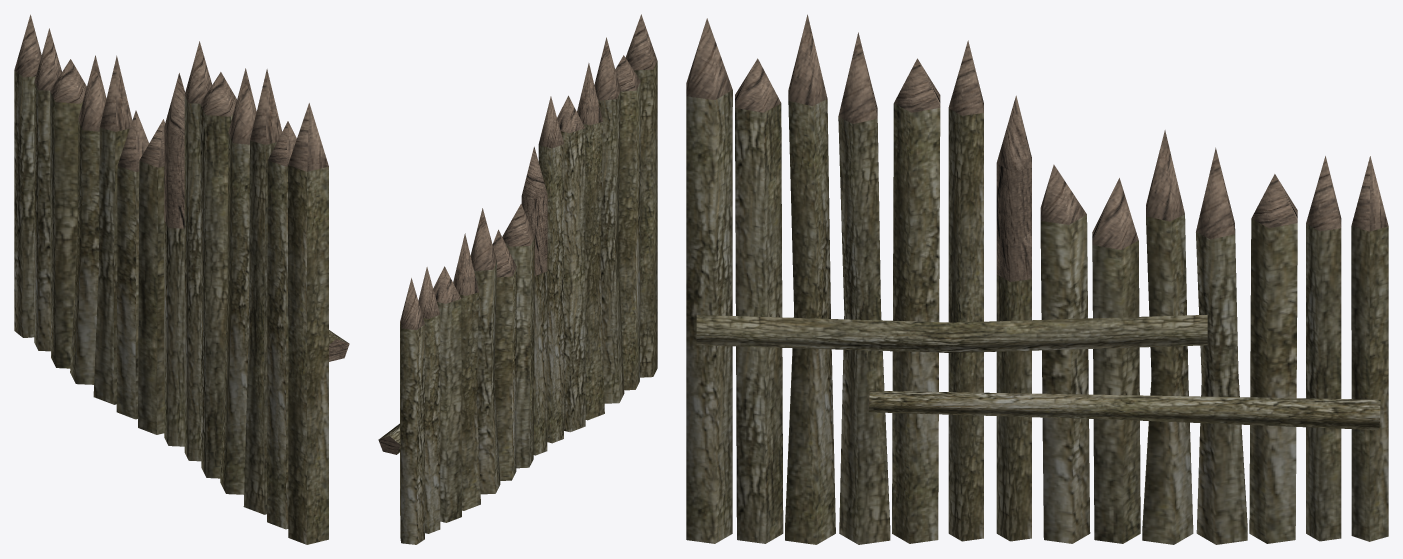
Rendered from Toge.FBX.
The picture shows the model from 3 angles, left to right: view 1: azimuth 30°, elevation 25°; view 2: azimuth 150°, elevation 25°; view 3: azimuth 270°, elevation 25°; orthographic projection. The views are drawn at different scales.
Visible parts, largest first — view 1: palisade; view 2: palisade; view 3: palisade.
Part boxes in pixels (box(x1,y1,x2,y2)): palisade: box(14, 14, 349, 544); palisade: box(378, 14, 657, 544); palisade: box(686, 14, 1388, 544).
Bounding box in the file's own units: 1.27 × 9.53 × 11.67.
